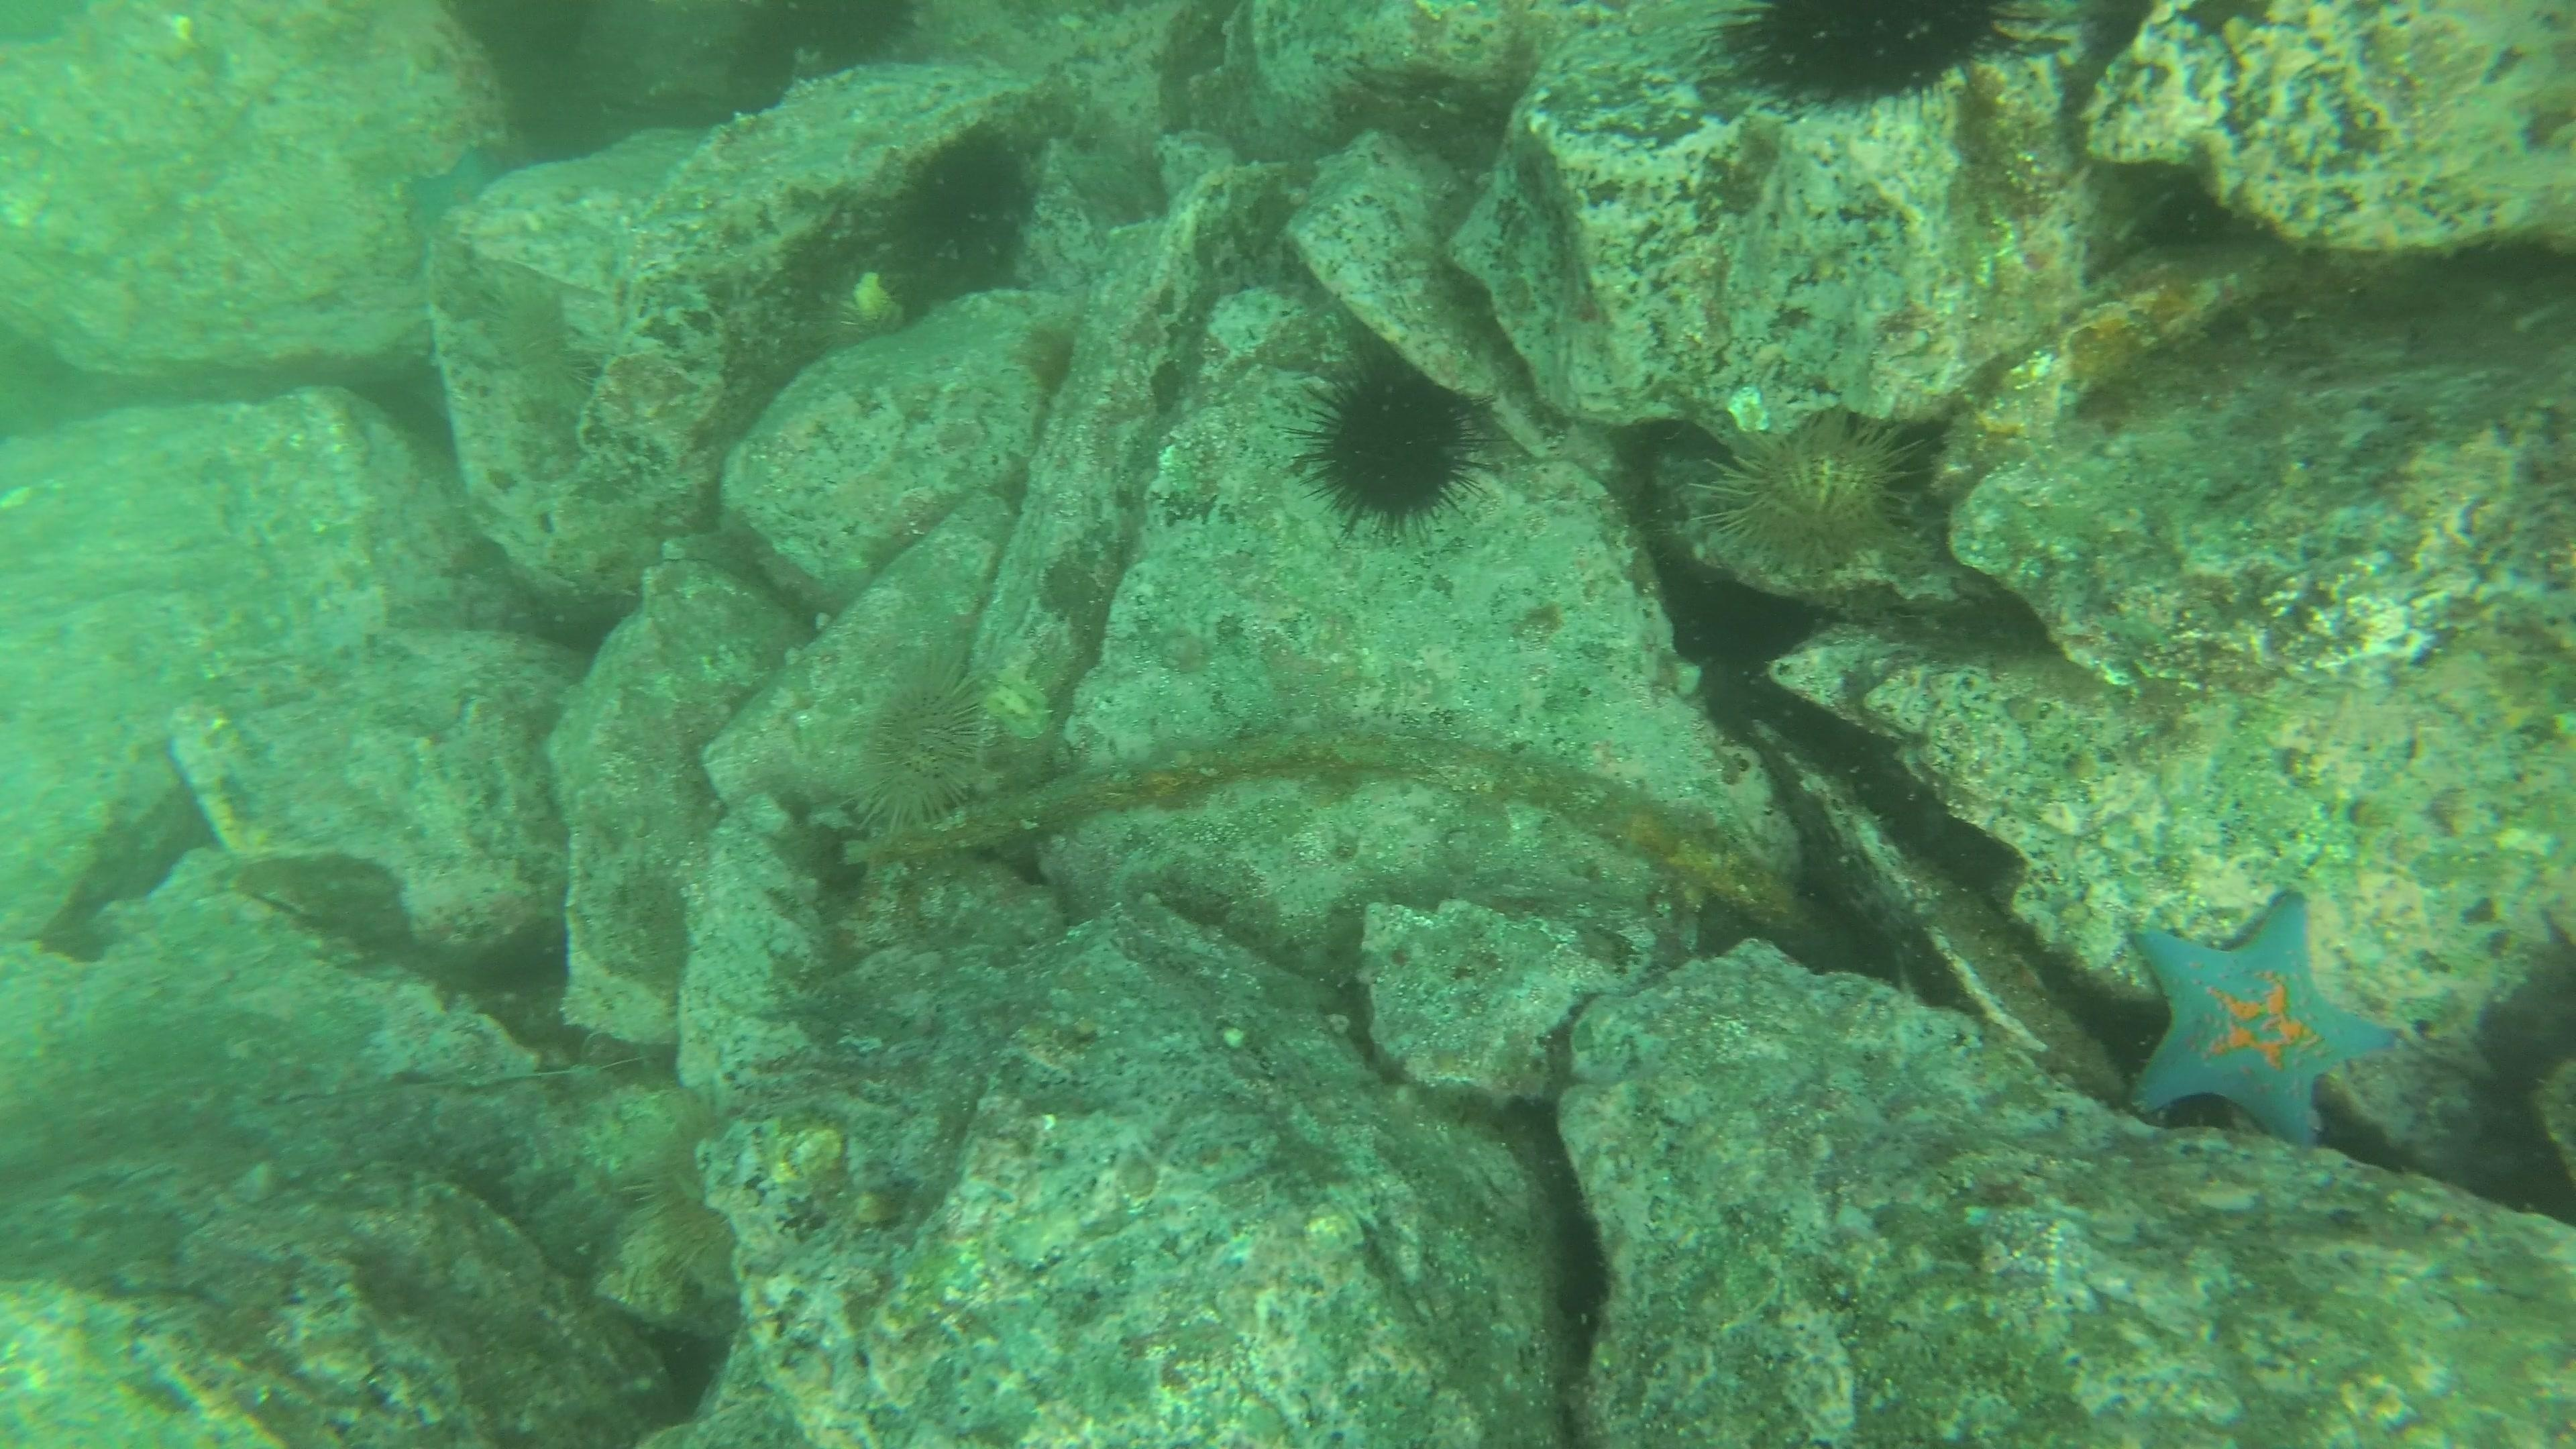echinus: (1691, 405, 1930, 584), (605, 1116, 787, 1320), (1714, 2, 2026, 115), (1295, 356, 1490, 534), (881, 122, 1042, 297), (847, 658, 1001, 837), (720, 2, 929, 94), (810, 244, 911, 357)
starfish: (2118, 888, 2406, 1150), (395, 134, 510, 251)
